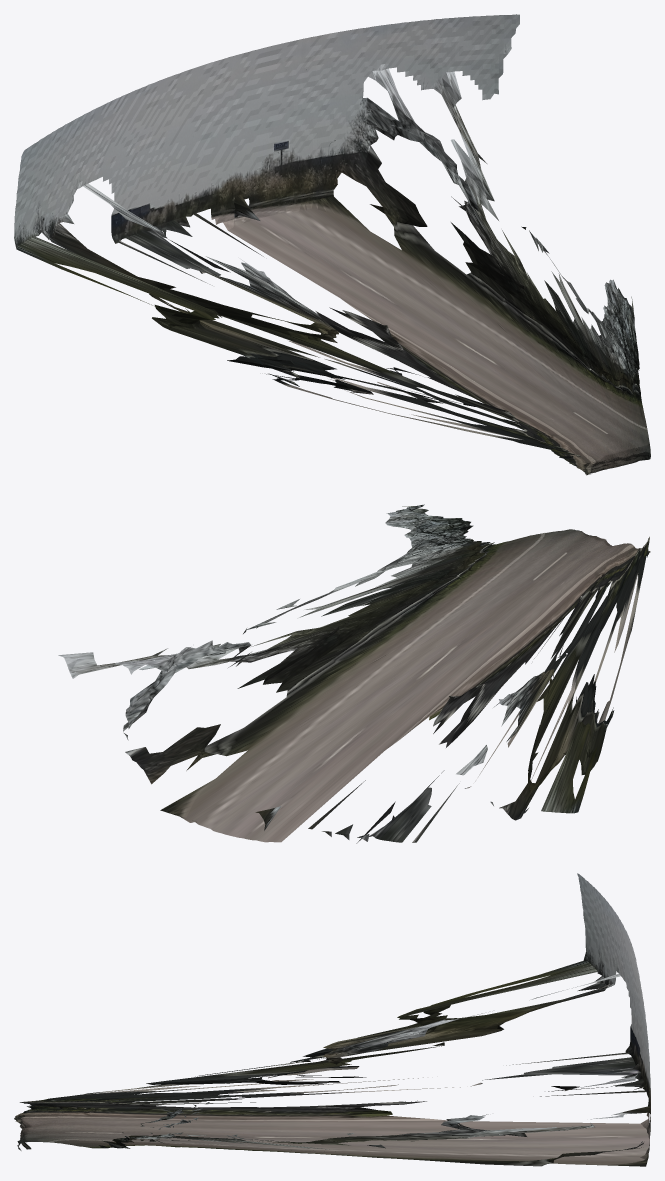
3 views of the same model, one above another, from view 1: azimuth 30°, elevation 25°; view 2: azimuth 150°, elevation 25°; view 3: azimuth 270°, elevation 25° (orthographic). The views are drawn at different scales.
Parts seen in each view (by area): view 1: defaultobject; view 2: defaultobject; view 3: defaultobject.
Part boxes in pixels (x1,y1,x2,y2): defaultobject: [14, 14, 650, 475]; defaultobject: [58, 504, 650, 843]; defaultobject: [14, 873, 650, 1166].
Size of the model in its own units: 37.08 by 12.35 by 44.52.
Materials: 1 (1 with a texture image).
